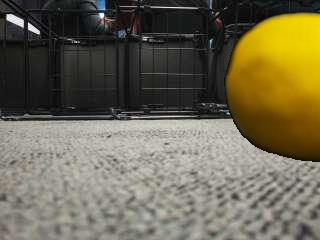lemon: (225, 13, 320, 160)
